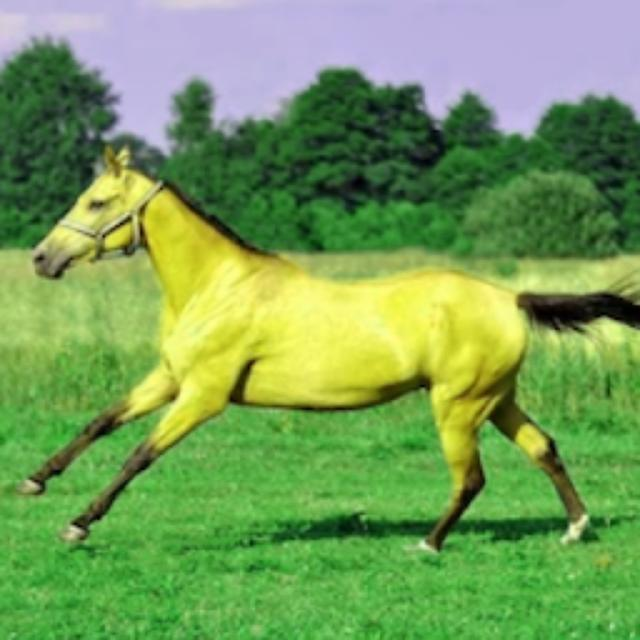Horse: (8, 137, 640, 560)
